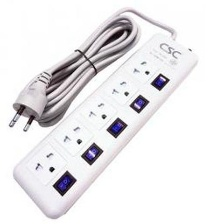three_eye_plug: (11, 27, 199, 219)
